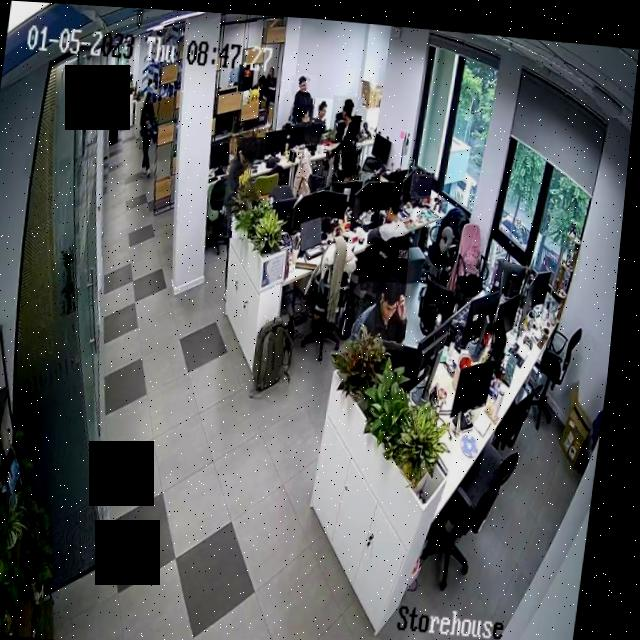person: (222, 132, 263, 236), (325, 91, 370, 183), (359, 274, 417, 345), (370, 184, 419, 252), (285, 69, 319, 124), (306, 92, 334, 140)
